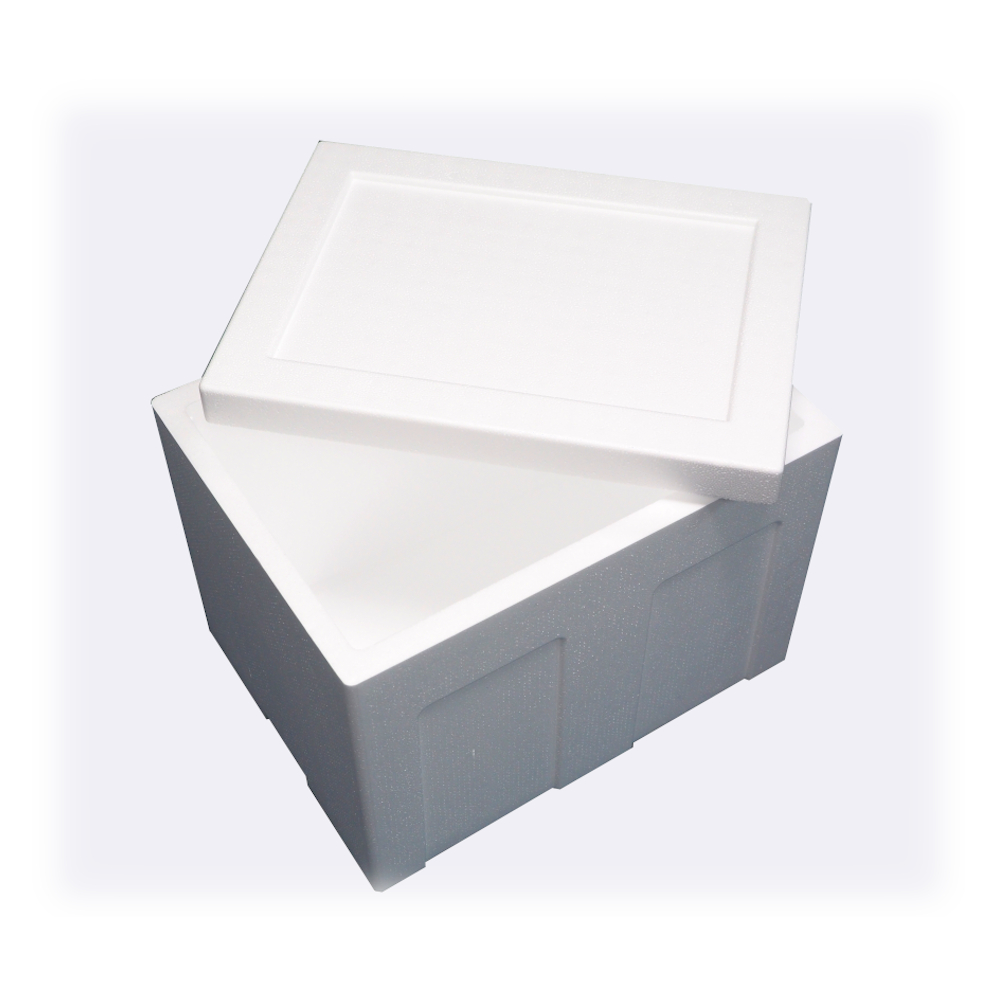Foam Box: (138, 131, 846, 897)
